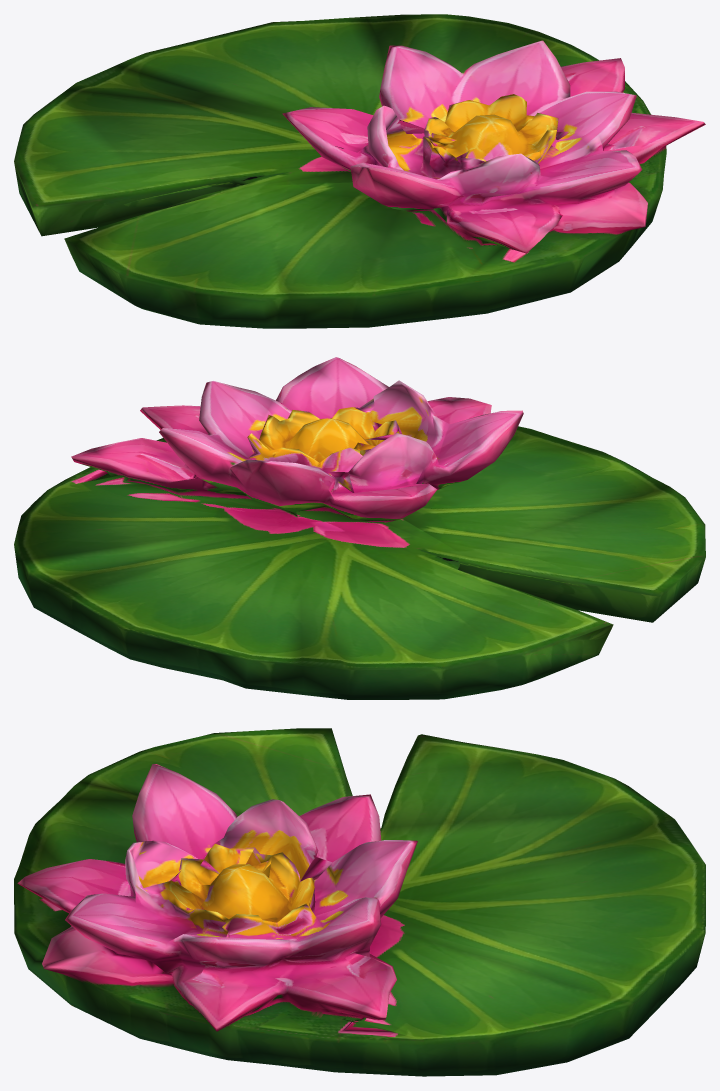
The model's file is nenufar_1.glb.
3 renders of one model, top to bottom at view 1: azimuth 30°, elevation 25°; view 2: azimuth 150°, elevation 25°; view 3: azimuth 270°, elevation 25°, orthographic. The views are drawn at different scales.
Parts seen in each view (by area): view 1: nenufar_1; view 2: nenufar_1; view 3: nenufar_1.
Part boxes in pixels (<box>): nenufar_1: <box>14,14,705,328</box>; nenufar_1: <box>14,357,705,699</box>; nenufar_1: <box>14,728,705,1076</box>.
Bounding box in the file's own units: 1.5 × 0.3 × 1.4.
1 material, 1 textured.
